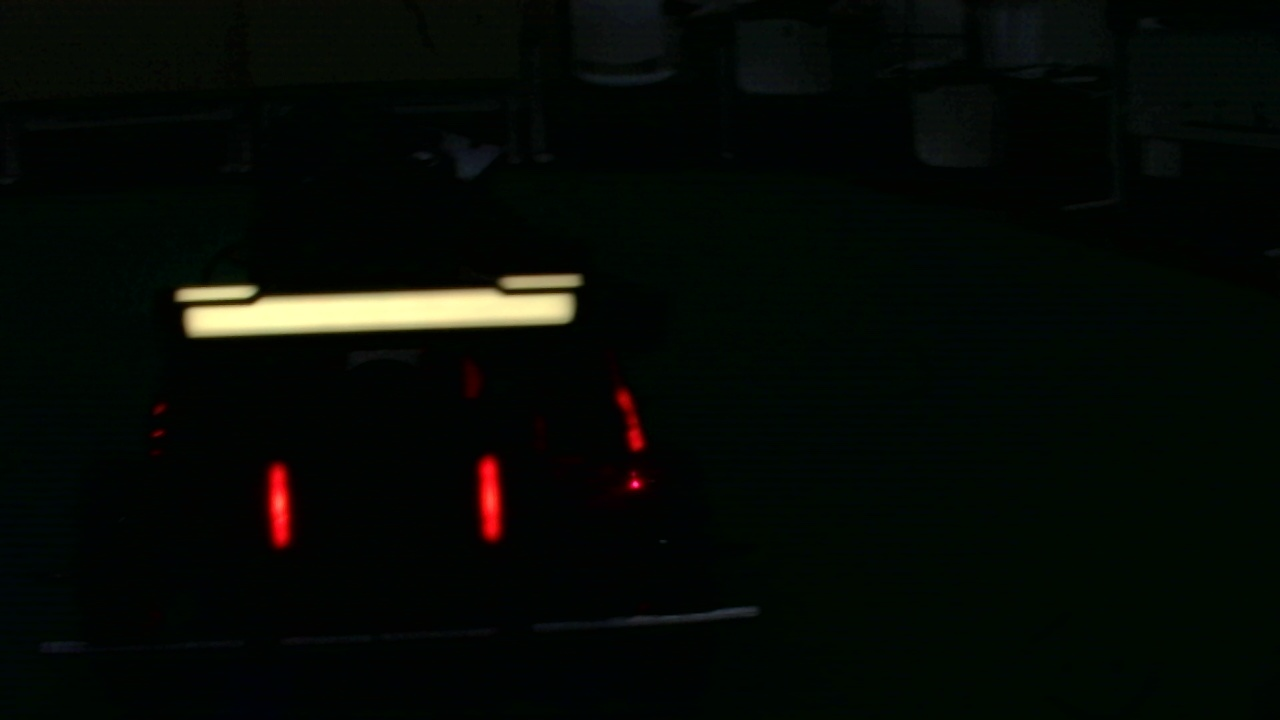lamp: (474, 456, 501, 539), (269, 461, 292, 548)
pair1: (268, 454, 500, 548)
